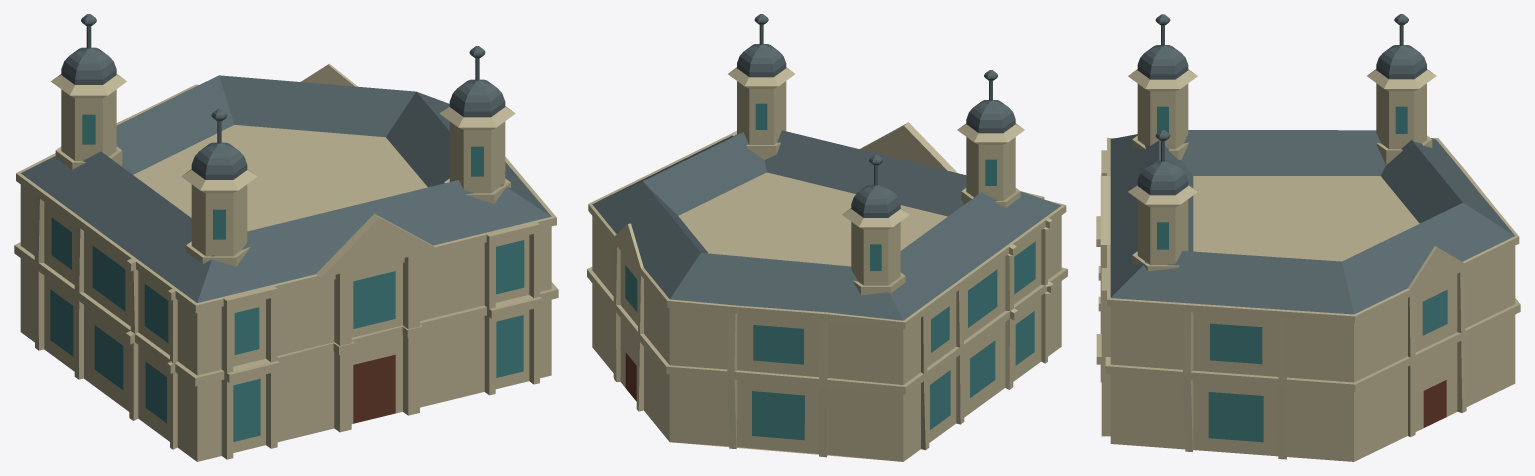
File: Maritime.fbx
3 views of the same model, side by side, from view 1: azimuth 30°, elevation 25°; view 2: azimuth 150°, elevation 25°; view 3: azimuth 270°, elevation 25° (orthographic). The views are drawn at different scales.
Visible parts, largest first — view 1: Cube; view 2: Cube; view 3: Cube.
Boxes of the visible parts, bbox=[...] form: Cube: bbox=[14, 14, 558, 461]; Cube: bbox=[587, 14, 1067, 461]; Cube: bbox=[1096, 14, 1520, 461].
Size of the model in its own units: 1135 by 849 by 1108.
